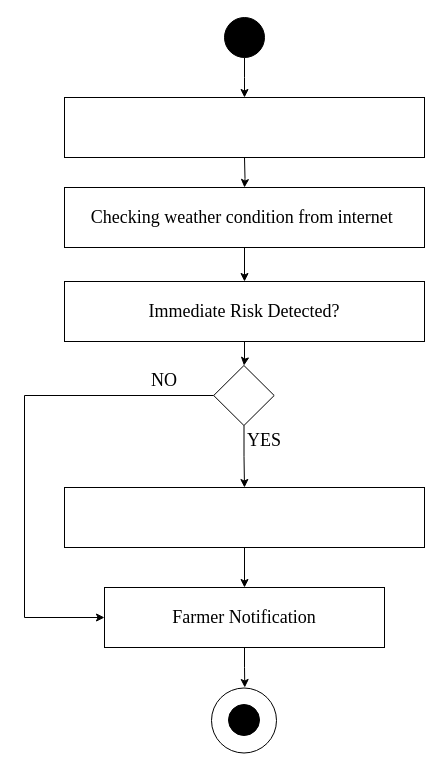
The diagram is 442 pixels wide and 771 high, and some of its shapes have lost their labels. Here are the shapes that lost their labels. From the top down, the box of each, then its label:
(64, 96, 424, 158): Receiving real time Sesnor Data
(64, 486, 424, 548): Alert Generation(SMS/Push Notification)
